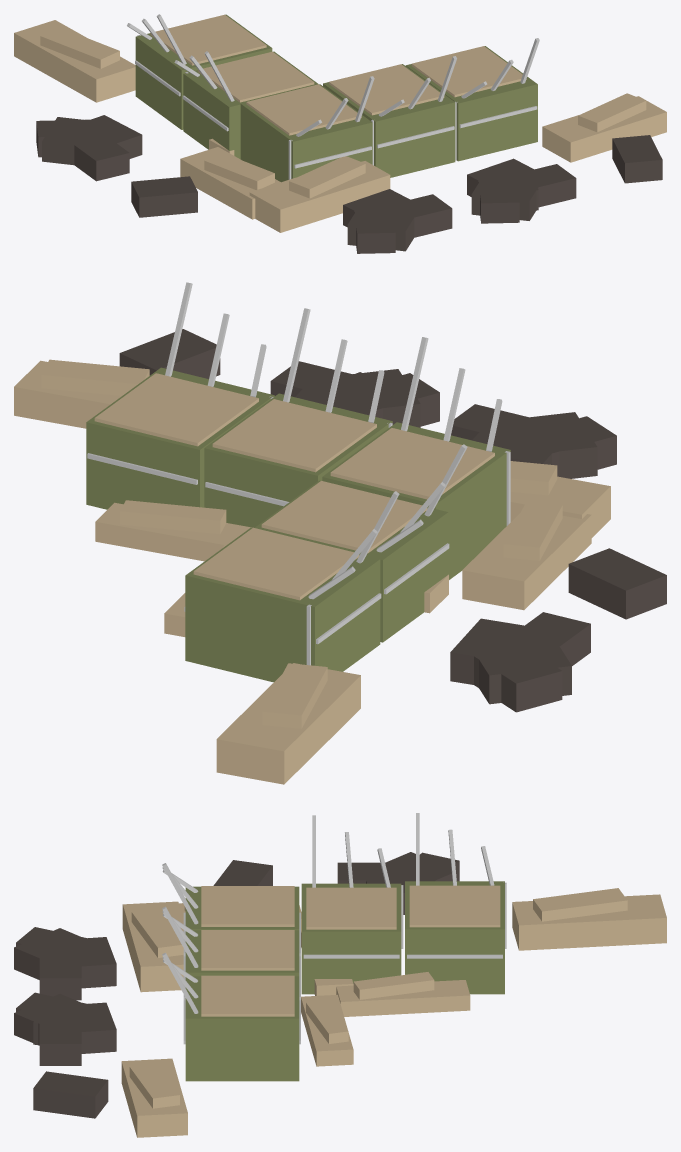
The model's file is SM_HescoEsquina_v0_MallaLimpia_e2_MuyDanado_LOD0.fbx.
3 renders of one model, top to bottom at view 1: azimuth 30°, elevation 25°; view 2: azimuth 150°, elevation 25°; view 3: azimuth 270°, elevation 25°, orthographic. The views are drawn at different scales.
Visible parts, largest first — view 1: SM_hesco_piezas_v2_LOD0; view 2: SM_hesco_piezas_v2_LOD0; view 3: SM_hesco_piezas_v2_LOD0.
Boxes of the visible parts, left/top/right/bottom form: SM_hesco_piezas_v2_LOD0: left=14, top=14, right=666, bottom=253; SM_hesco_piezas_v2_LOD0: left=14, top=282, right=666, bottom=784; SM_hesco_piezas_v2_LOD0: left=14, top=813, right=666, bottom=1137.
Bounding box in the file's own units: 6.71 × 1.48 × 7.01.
